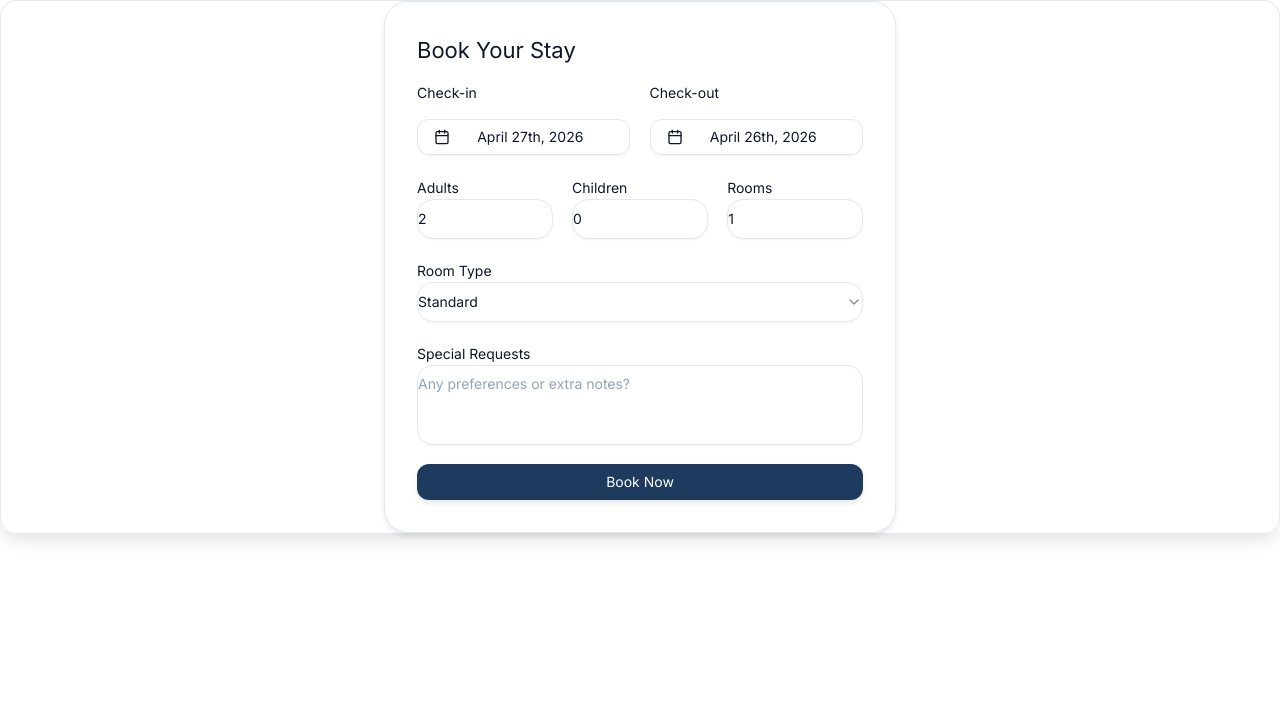
Test: BookingWidget - Story 1.5 Implementation › AC7: ZOD Contract Implementation › validates booking data structure before submission
The width and height of the screenshot is (1280, 720).
Step 1. Click the button "Book Now" → point(640, 482), box [417, 464, 863, 500]
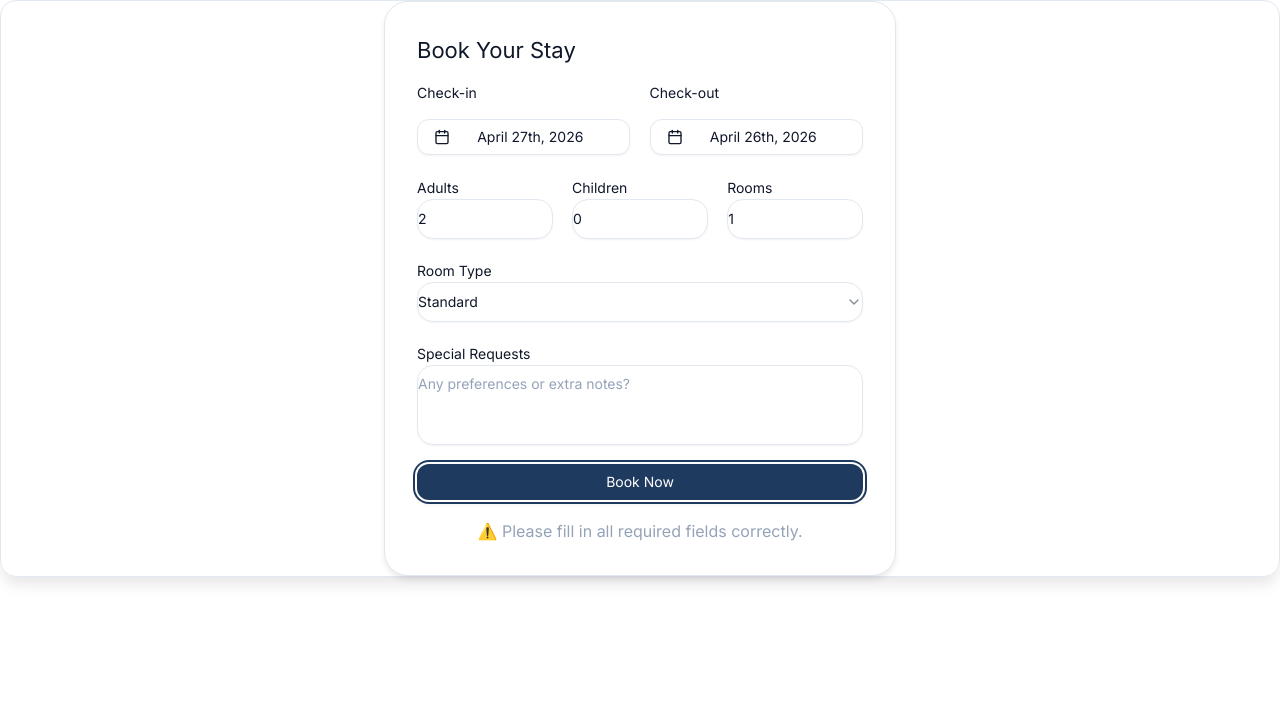
Result: the text "⚠️ Please fill in all required fields correctly." is shown at [478, 521, 803, 541]
